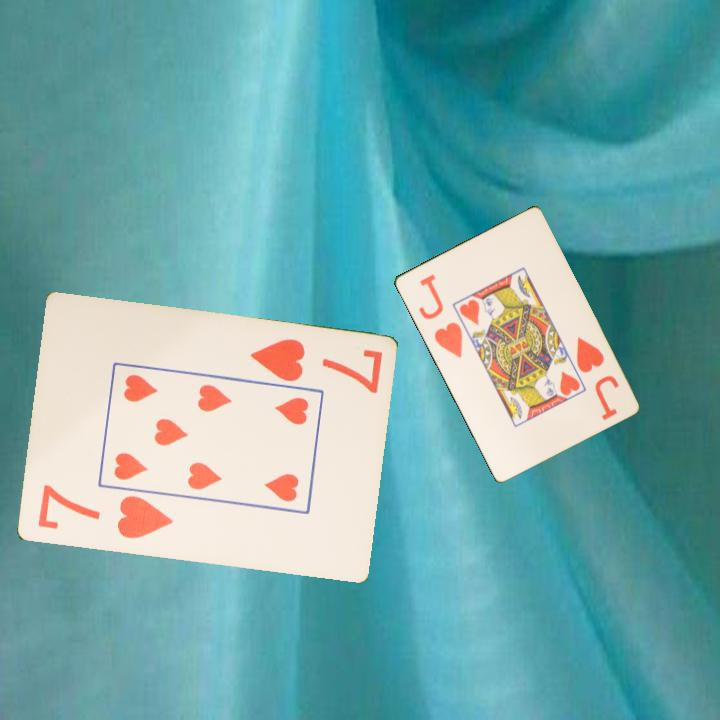7h: (34, 481, 176, 542), (246, 335, 385, 395)
Jh: (415, 270, 465, 361), (572, 333, 607, 376)
